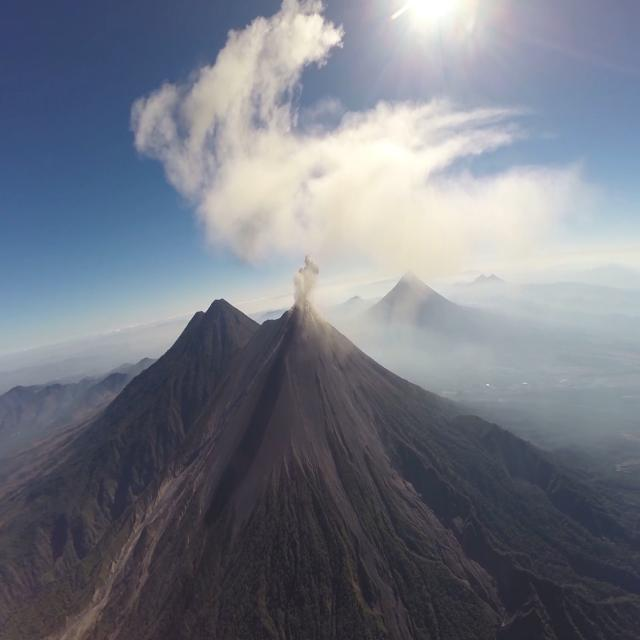Plume: (135, 4, 593, 292), (292, 254, 320, 306)
Summit: (280, 294, 334, 329)
